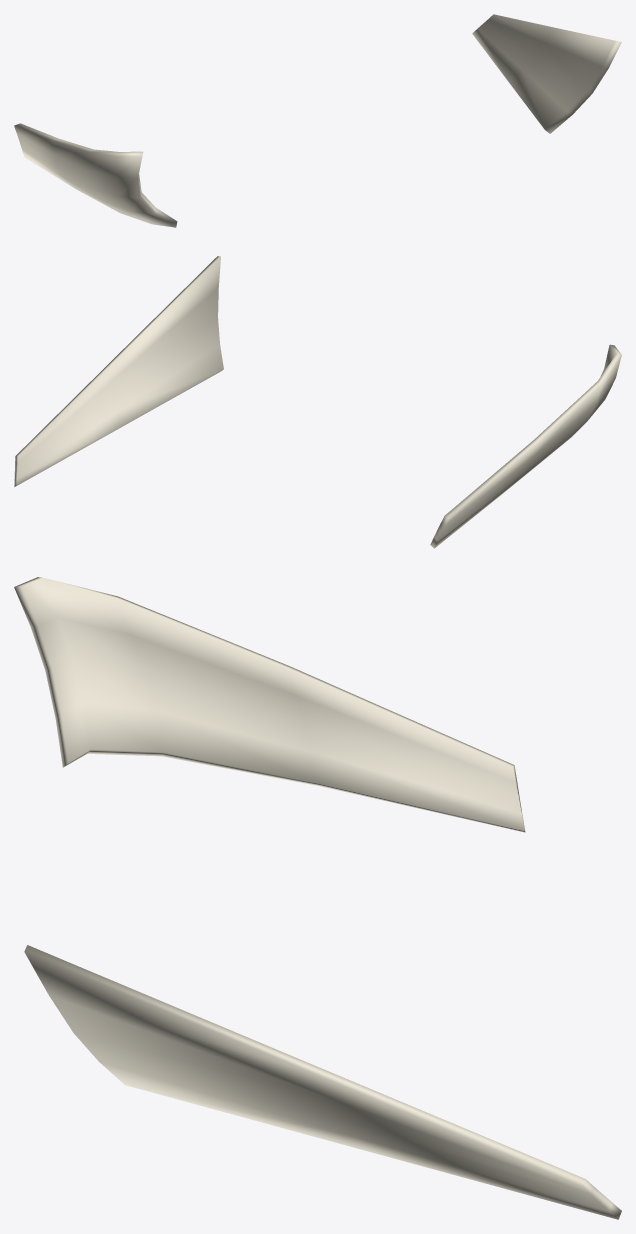
The picture shows the model from 3 angles, top to bottom: view 1: azimuth 30°, elevation 25°; view 2: azimuth 150°, elevation 25°; view 3: azimuth 270°, elevation 25°; orthographic projection. The views are drawn at different scales.
Visible parts, largest first — view 1: ZA_8e0f9dc6d7d41898; view 2: ZA_8e0f9dc6d7d41898; view 3: ZA_8e0f9dc6d7d41898.
Boxes of the visible parts, bbox=[...] form: ZA_8e0f9dc6d7d41898: bbox=[14, 14, 621, 227]; ZA_8e0f9dc6d7d41898: bbox=[14, 256, 621, 548]; ZA_8e0f9dc6d7d41898: bbox=[14, 577, 621, 1219].
Size of the model in its own units: 0.0471 by 0.0127 by 0.0291.
